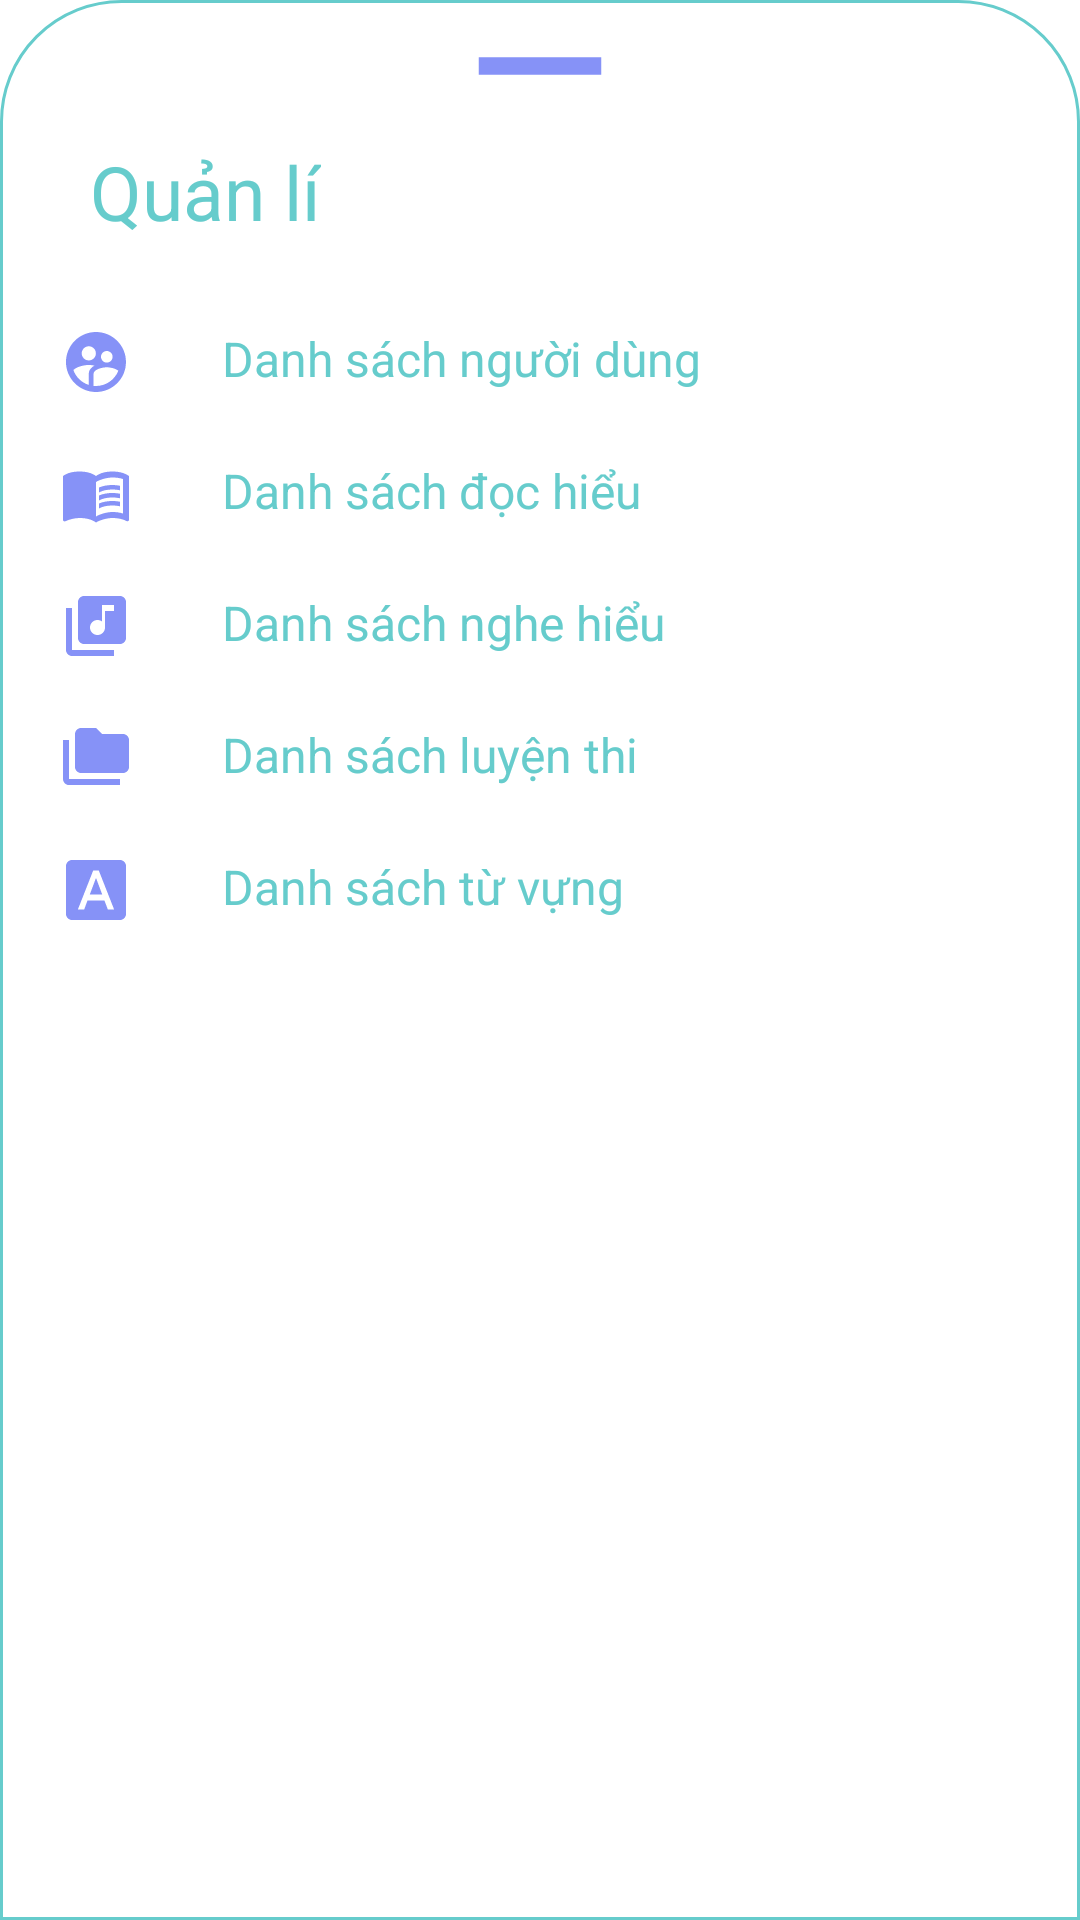

Named icons in this screenshot (1080w x 1920h) and their centers, (x,y):
book: (96,497)
folder: (96,756)
font download: (96,890)
library music: (96,626)
supervised user circle: (96,362)
